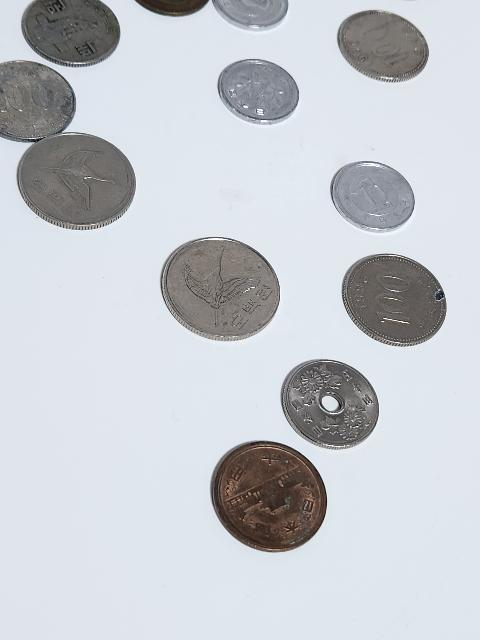coin: (212, 437, 330, 553), (162, 235, 280, 339), (16, 130, 136, 230), (338, 252, 448, 348), (274, 356, 382, 450), (334, 8, 433, 82), (330, 154, 416, 233), (0, 56, 76, 142), (217, 56, 301, 124)
